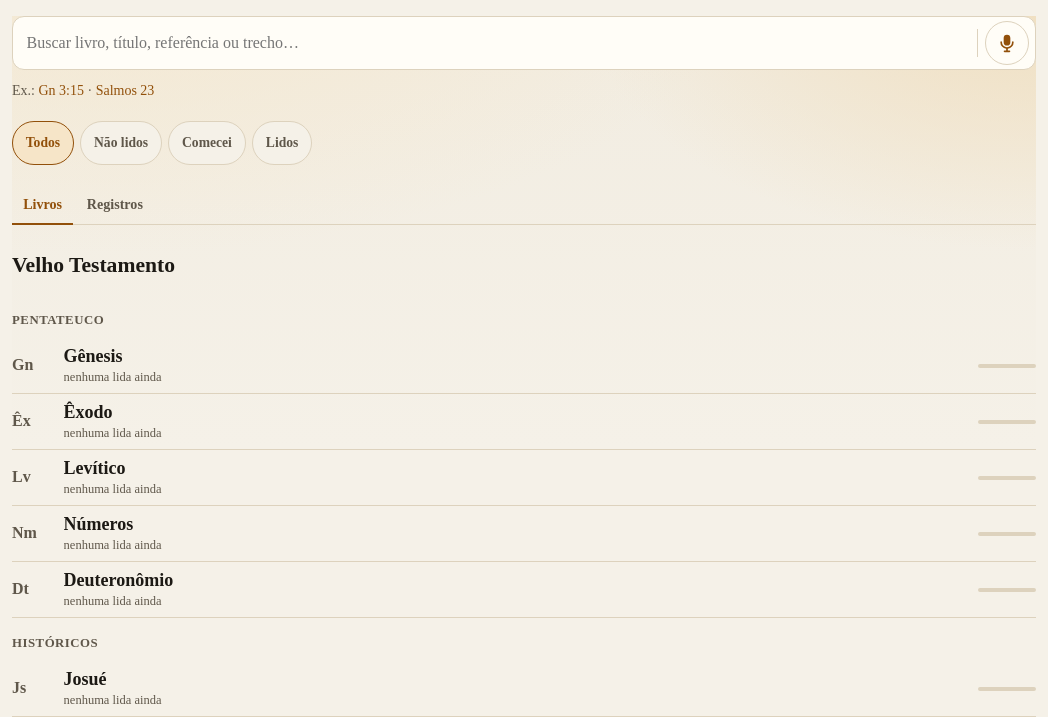
it: Explorar — ditado no campo de referência › ditar uma referência preenche o campo normalizado e ABRE a seção Referência
This screenshot has width=1048, height=717.
Click the button with class "ditar-botao" at (1007, 43), box [985,21,1029,65]
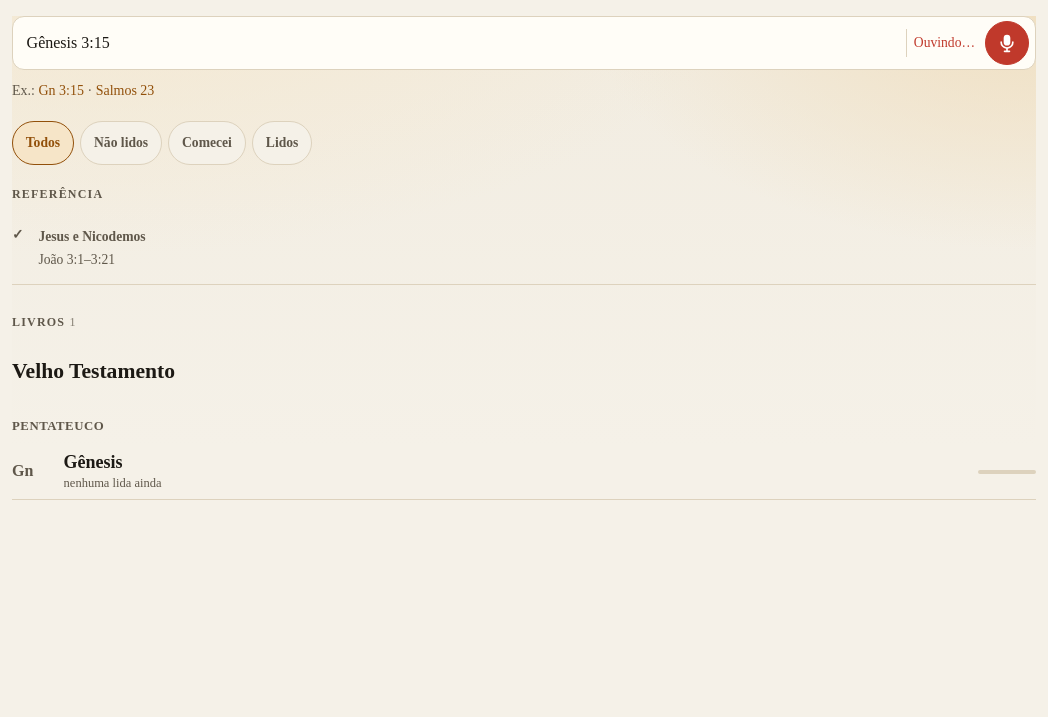
Check: the search field named "Buscar livro, título, referência ou trecho" holds "Gênesis 3:15", box [17,17,900,69]
